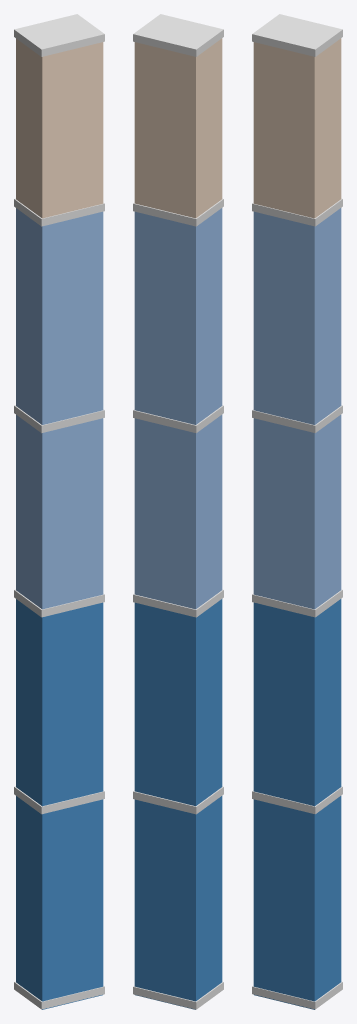
File: columna.fbx
3 renders of one model, left to right at view 1: azimuth 30°, elevation 25°; view 2: azimuth 150°, elevation 25°; view 3: azimuth 330°, elevation 25°, orthographic.
Parts seen in each view (by area): view 1: gymnasium.137, gymnasium.136, gymnasium.115, gymnasium.124, gymnasium.123, gymnasium.132, gymnasium.109, gymnasium.125, gymnasium.126; view 2: gymnasium.137, gymnasium.136, gymnasium.115, gymnasium.124, gymnasium.125, gymnasium.126, gymnasium.132, gymnasium.109, gymnasium.123; view 3: gymnasium.137, gymnasium.136, gymnasium.115, gymnasium.124, gymnasium.132, gymnasium.109, gymnasium.123, gymnasium.125, gymnasium.126.
Part boxes in pixels (x1,y1,x2,y2): gymnasium.137: [16, 599, 103, 1009]; gymnasium.136: [16, 208, 103, 609]; gymnasium.115: [16, 38, 103, 218]; gymnasium.124: [14, 14, 104, 56]; gymnasium.123: [14, 589, 104, 617]; gymnasium.132: [14, 786, 104, 814]; gymnasium.109: [14, 981, 104, 1009]; gymnasium.125: [14, 198, 104, 226]; gymnasium.126: [14, 405, 104, 433]; gymnasium.137: [134, 599, 222, 1009]; gymnasium.136: [134, 208, 222, 609]; gymnasium.115: [134, 38, 222, 218]; gymnasium.124: [133, 14, 223, 56]; gymnasium.125: [133, 198, 223, 226]; gymnasium.126: [133, 405, 223, 433]; gymnasium.132: [133, 786, 223, 814]; gymnasium.109: [133, 982, 223, 1009]; gymnasium.123: [133, 589, 223, 617]; gymnasium.137: [253, 599, 341, 1009]; gymnasium.136: [253, 208, 341, 609]; gymnasium.115: [253, 38, 341, 218]; gymnasium.124: [252, 14, 342, 56]; gymnasium.132: [252, 786, 342, 814]; gymnasium.109: [252, 981, 342, 1009]; gymnasium.123: [252, 589, 342, 617]; gymnasium.125: [252, 198, 342, 226]; gymnasium.126: [252, 405, 342, 433].
Bounding box in the file's own units: 62.2 × 902 × 46.8.
